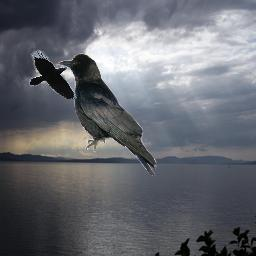Crow: (57, 53, 157, 176), (29, 50, 77, 99)
